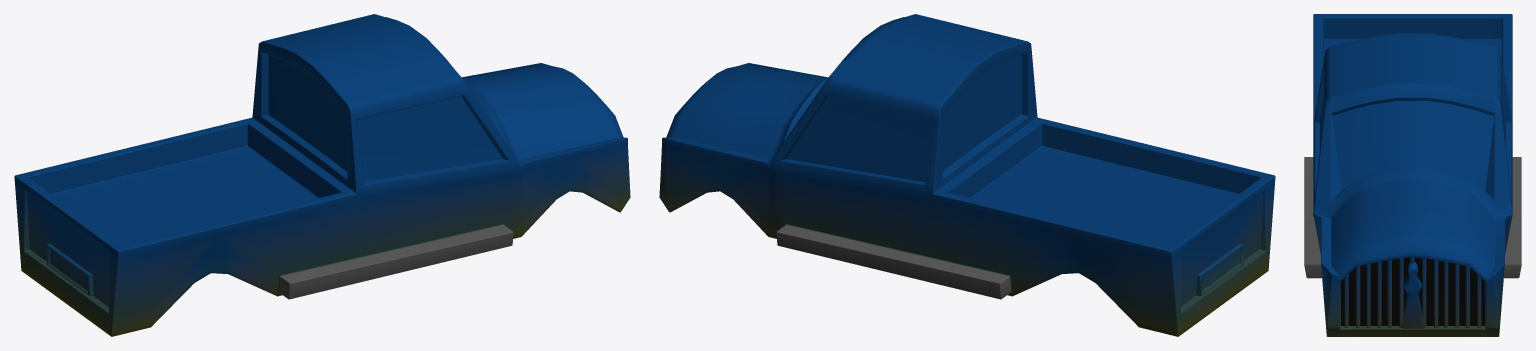
Rendered from SM_Props_Car_01 1.fbx.
The picture shows the model from 3 angles, left to right: view 1: azimuth 30°, elevation 25°; view 2: azimuth 150°, elevation 25°; view 3: azimuth 270°, elevation 25°; orthographic projection. The views are drawn at different scales.
Visible parts, largest first — view 1: transform33; view 2: transform33; view 3: transform33.
Part boxes in pixels (box(x1,y1,x2,y2)): transform33: box(14, 14, 630, 336); transform33: box(659, 14, 1275, 336); transform33: box(1304, 14, 1521, 336).
Bounding box in the file's own units: 284 × 96.61 × 107.
